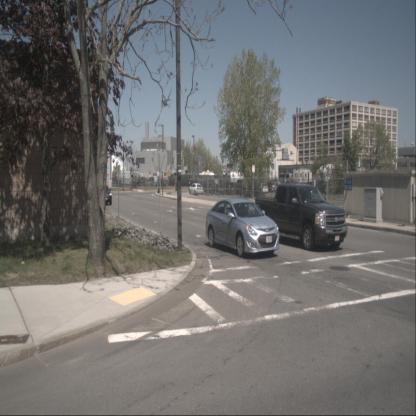vehicle-car: (206, 198, 280, 257), (98, 185, 112, 204), (226, 182, 242, 196), (188, 183, 204, 195), (277, 180, 294, 190), (211, 184, 224, 196), (254, 183, 268, 193), (264, 182, 278, 192), (149, 176, 154, 186), (162, 180, 166, 186)
vehicle-truck: (254, 183, 348, 251), (230, 179, 252, 195), (108, 177, 121, 187)
